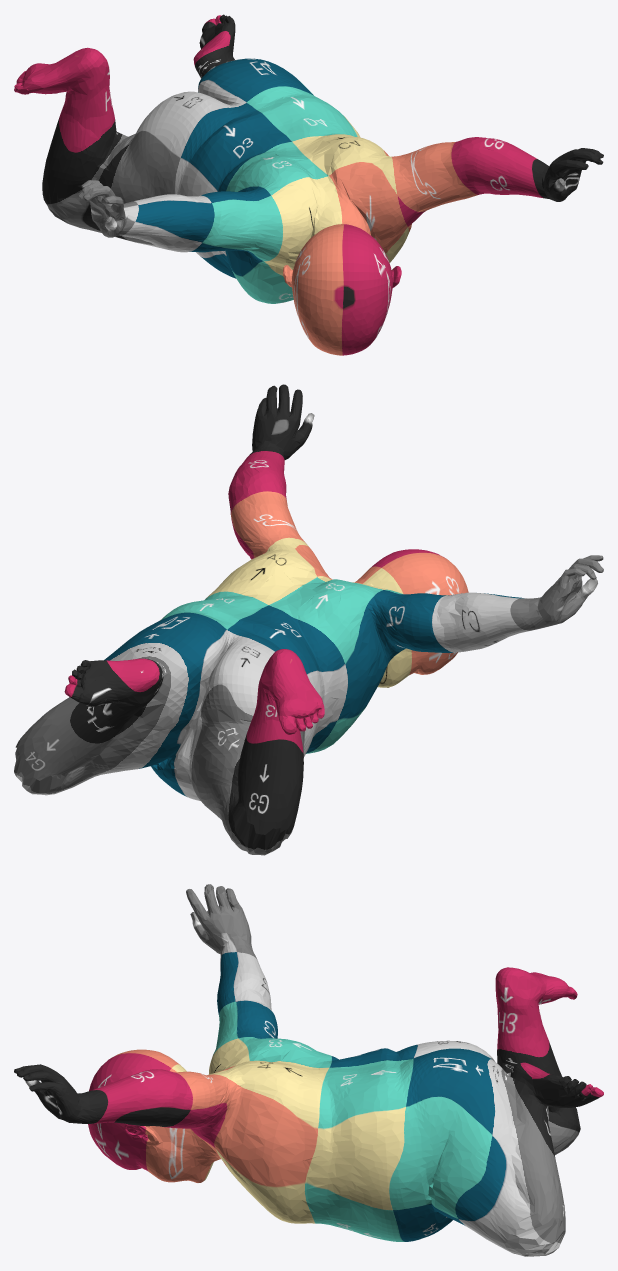
Rendered from kid00-kid08.obj.
3 views of the same model, one above another, from view 1: azimuth 30°, elevation 25°; view 2: azimuth 150°, elevation 25°; view 3: azimuth 270°, elevation 25° (orthographic). The views are drawn at different scales.
Parts seen in each view (by area): view 1: kid00-kid08_export; view 2: kid00-kid08_export; view 3: kid00-kid08_export.
Part boxes in pixels (x1,y1,x2,y2): kid00-kid08_export: (14, 14, 603, 355); kid00-kid08_export: (14, 384, 603, 855); kid00-kid08_export: (14, 884, 603, 1256).
Size of the model in its own units: 0.7433 by 0.3914 by 0.9177.
Materials: 1 (1 with a texture image).
